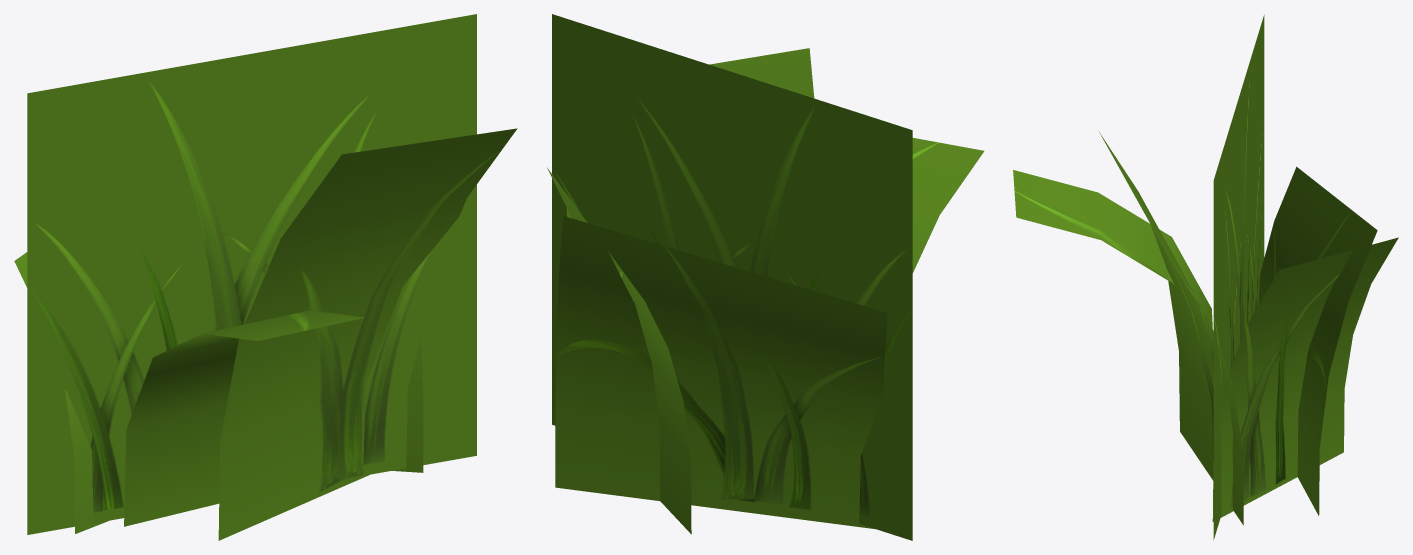
File: SE_Grass.fbx
3 renders of one model, left to right at view 1: azimuth 30°, elevation 25°; view 2: azimuth 150°, elevation 25°; view 3: azimuth 270°, elevation 25°, orthographic. The views are drawn at different scales.
Parts seen in each view (by area): view 1: SE_Grass; view 2: SE_Grass; view 3: SE_Grass.
Part boxes in pixels (bbox=[...]): SE_Grass: bbox=[14, 14, 517, 540]; SE_Grass: bbox=[547, 14, 984, 540]; SE_Grass: bbox=[1013, 15, 1398, 539].
Bounding box in the file's own units: 1.86 × 1.81 × 1.75.
